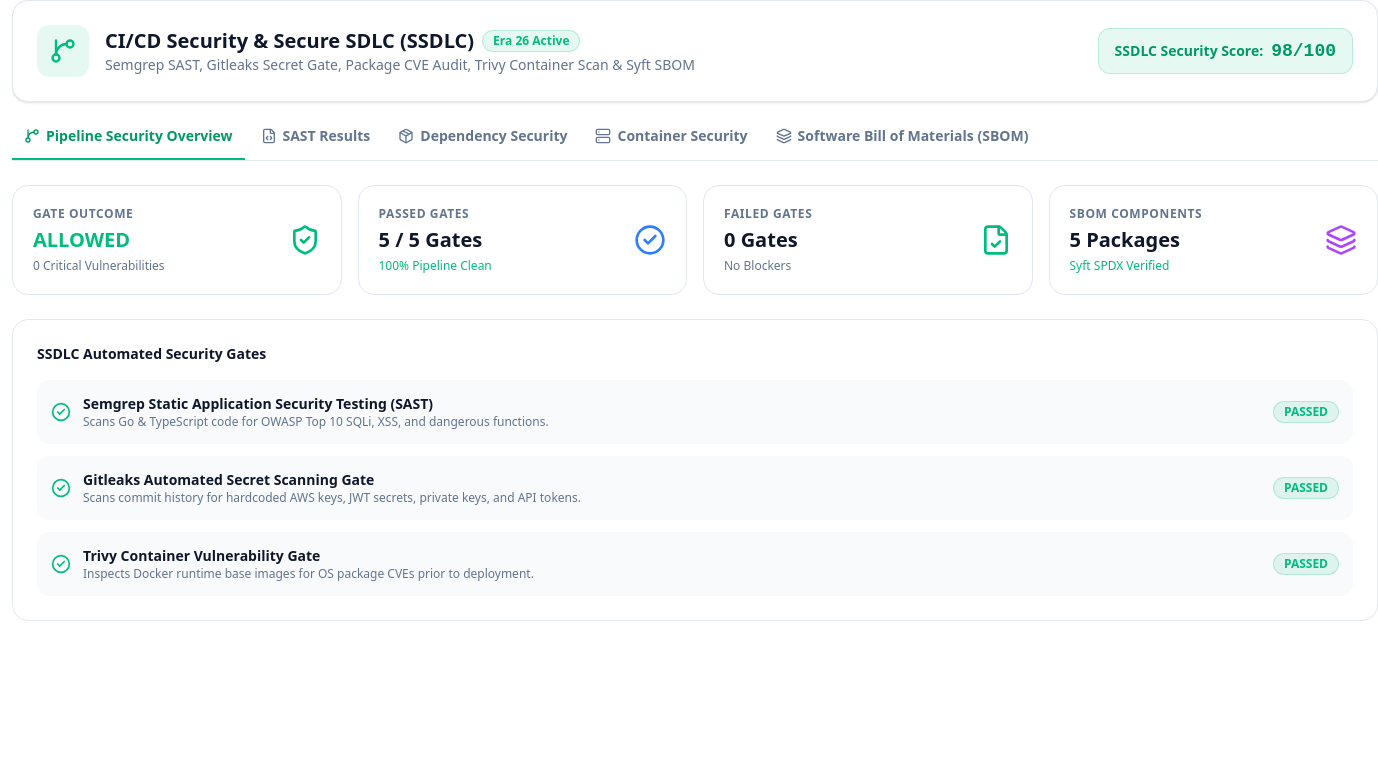
Test: CICDSecurityDashboard › clicking Dependency Security tab shows package CVE audit table
Click the button "Dependency Security": click(483, 143) [386, 126, 580, 160]
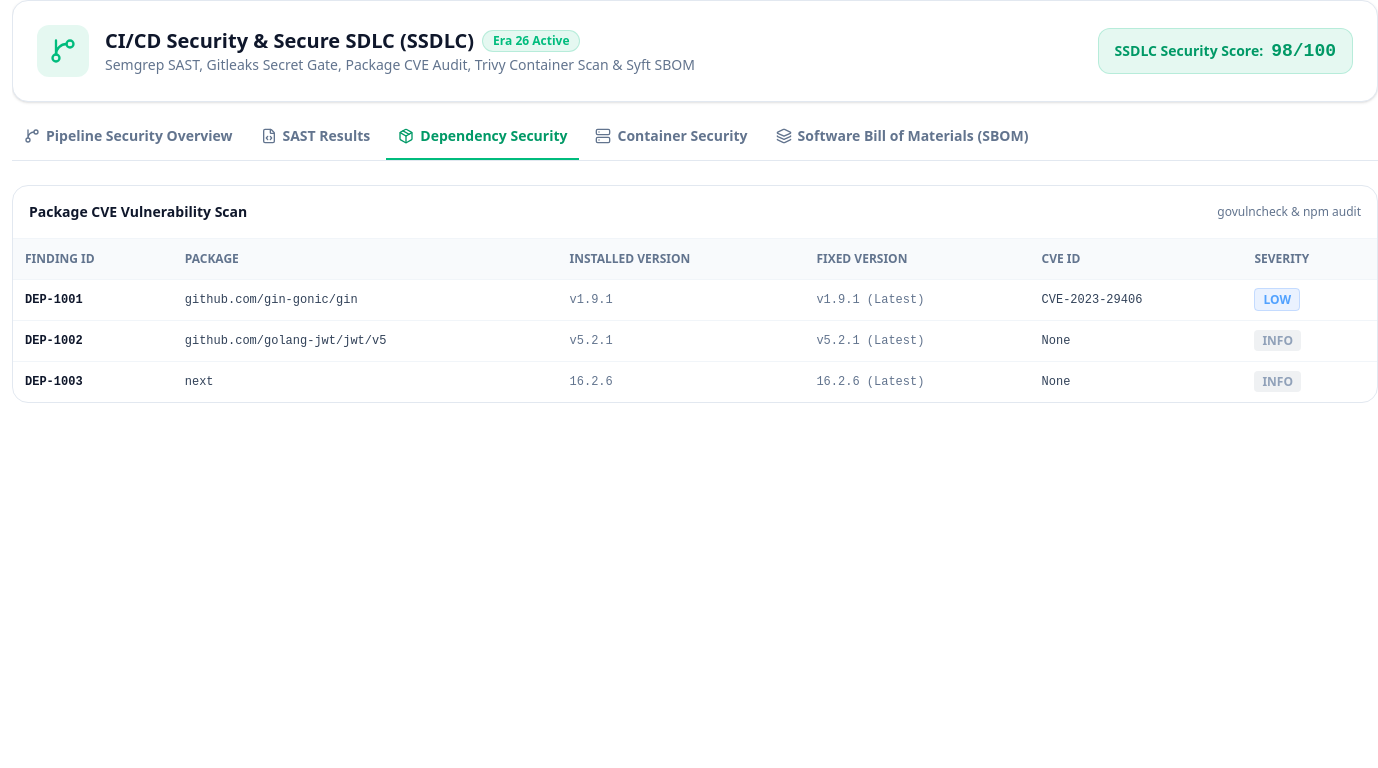
Expected: the heading "Package CVE Vulnerability Scan" is shown, [29, 202, 247, 222]
Expected: the text "github.com/gin-gonic/gin" is shown, [173, 280, 558, 320]
